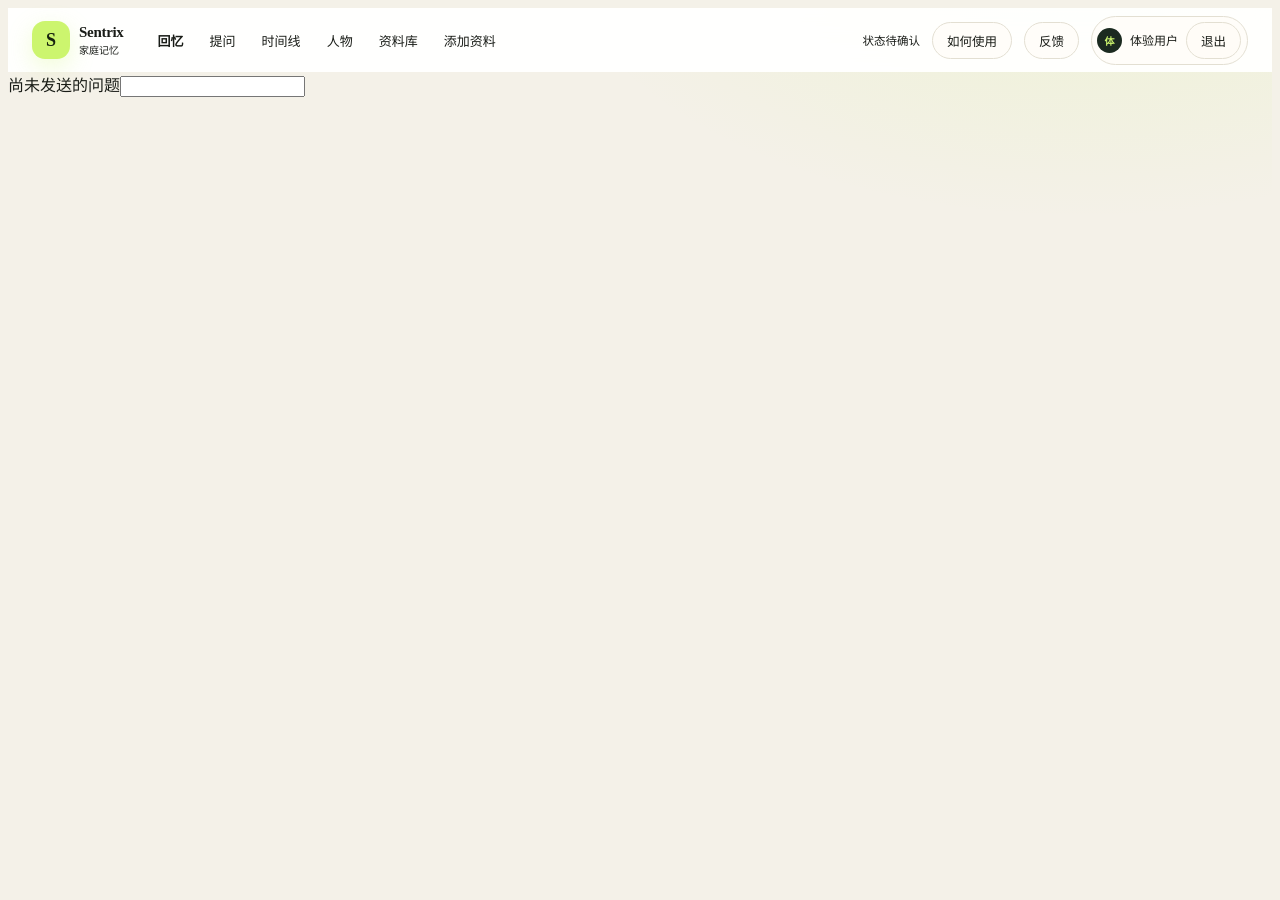
Test: 非 8210 入口隐藏外观并保留原反馈表单和正文
Click the button "反馈" at [1052, 40], box x1=1024 y1=22 x2=1079 y2=58
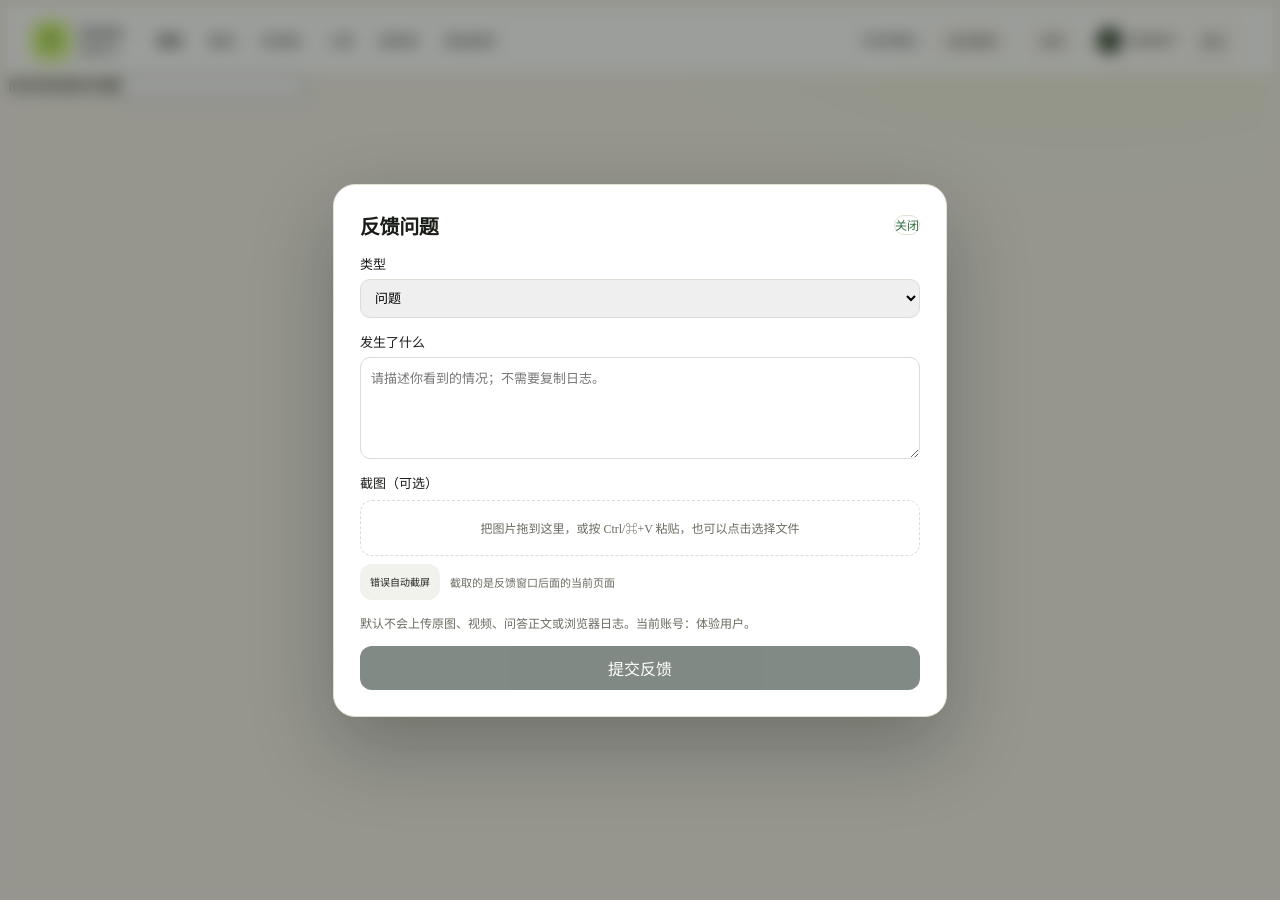
Type "原反馈正文" into the text box labelled "发生了什么" at [640, 408], box x1=360 y1=356 x2=920 y2=458
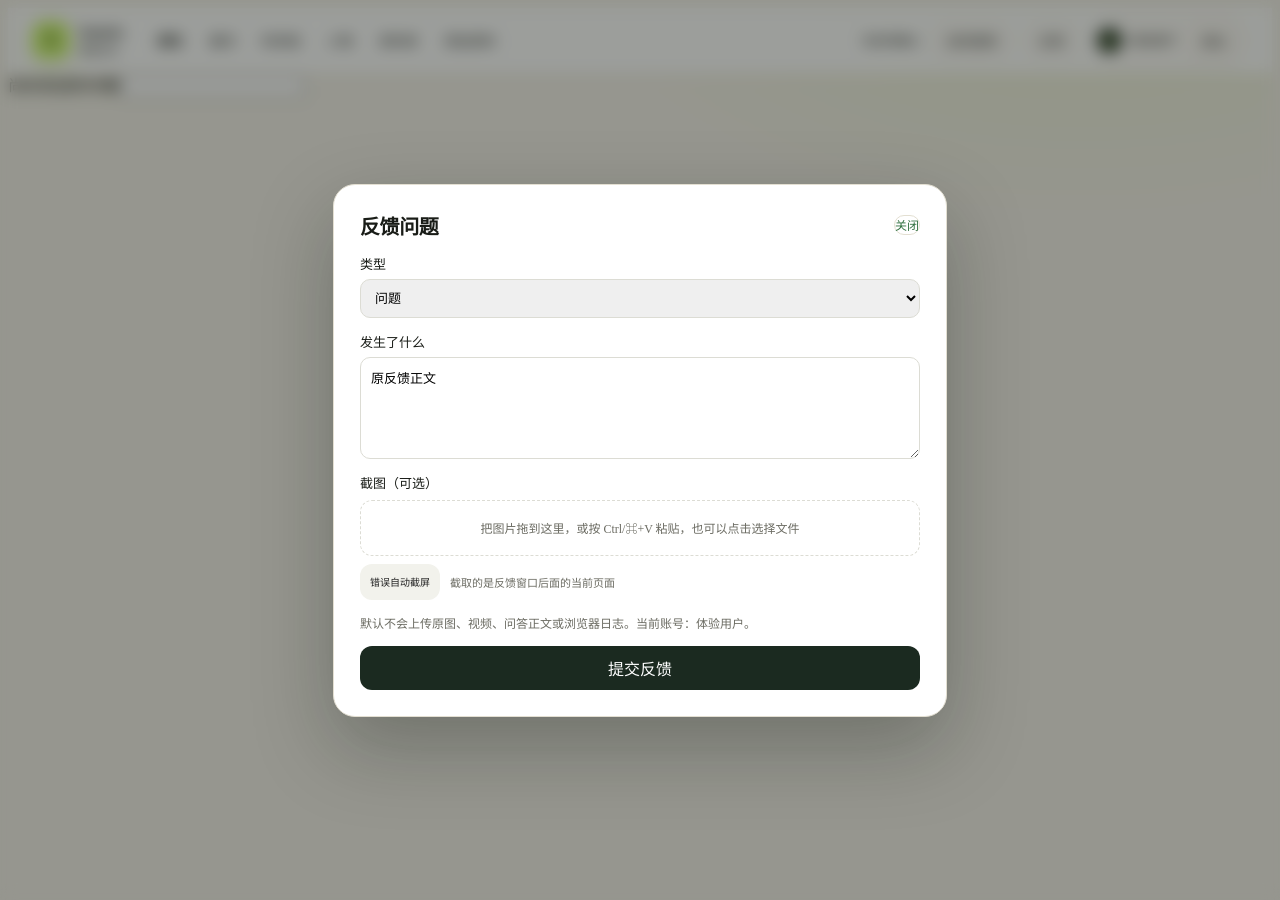
Click the button "提交反馈" at [640, 668], box x1=360 y1=646 x2=920 y2=690
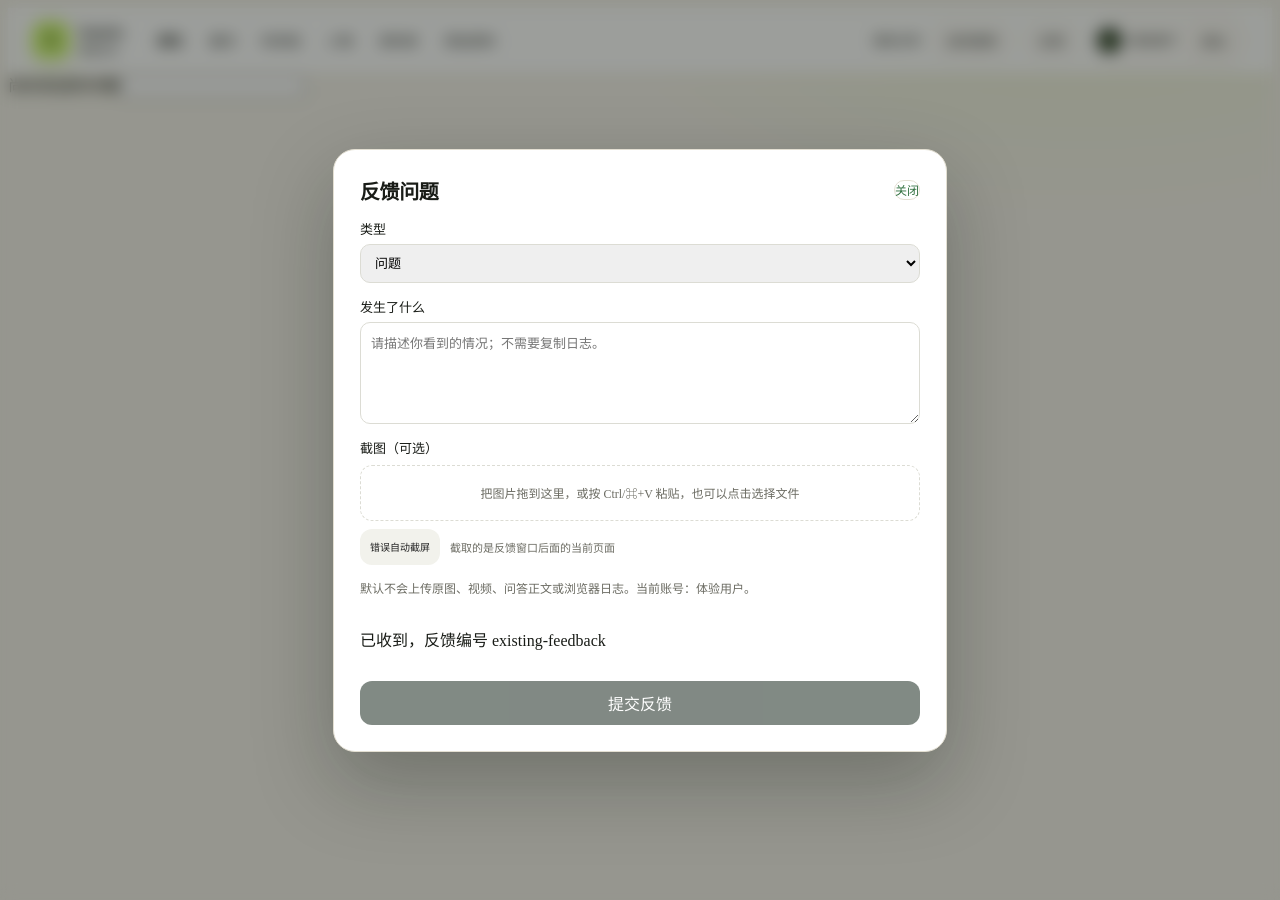
Expected: the text "已收到，反馈编号 existing-feedback" is shown, x1=360 y1=632 x2=606 y2=648
